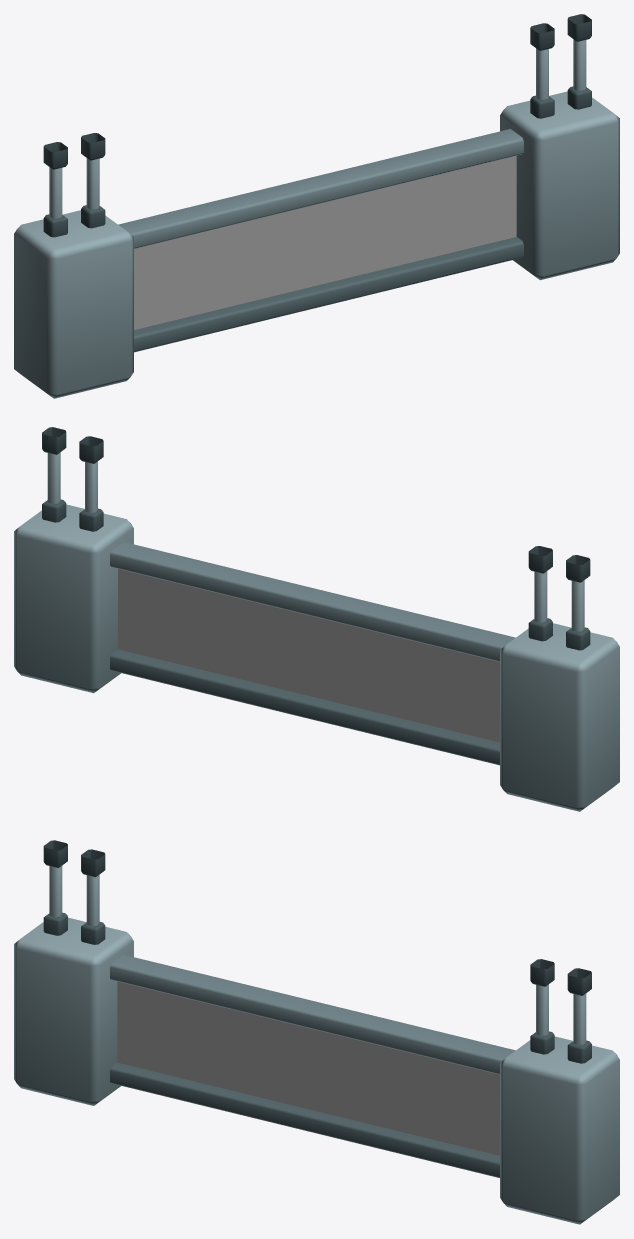
File: SM_ShippingSign.fbx
The picture shows the model from 3 angles, top to bottom: view 1: azimuth 30°, elevation 25°; view 2: azimuth 150°, elevation 25°; view 3: azimuth 330°, elevation 25°; orthographic projection.
Parts seen in each view (by area): view 1: pPlane7; view 2: pPlane7; view 3: pPlane7.
Boxes of the visible parts, x1,y1,x2,y2 form: pPlane7: (14,14,619,398); pPlane7: (14,427,619,811); pPlane7: (14,840,619,1224).
Size of the model in its own units: 311 by 38.74 by 122.
